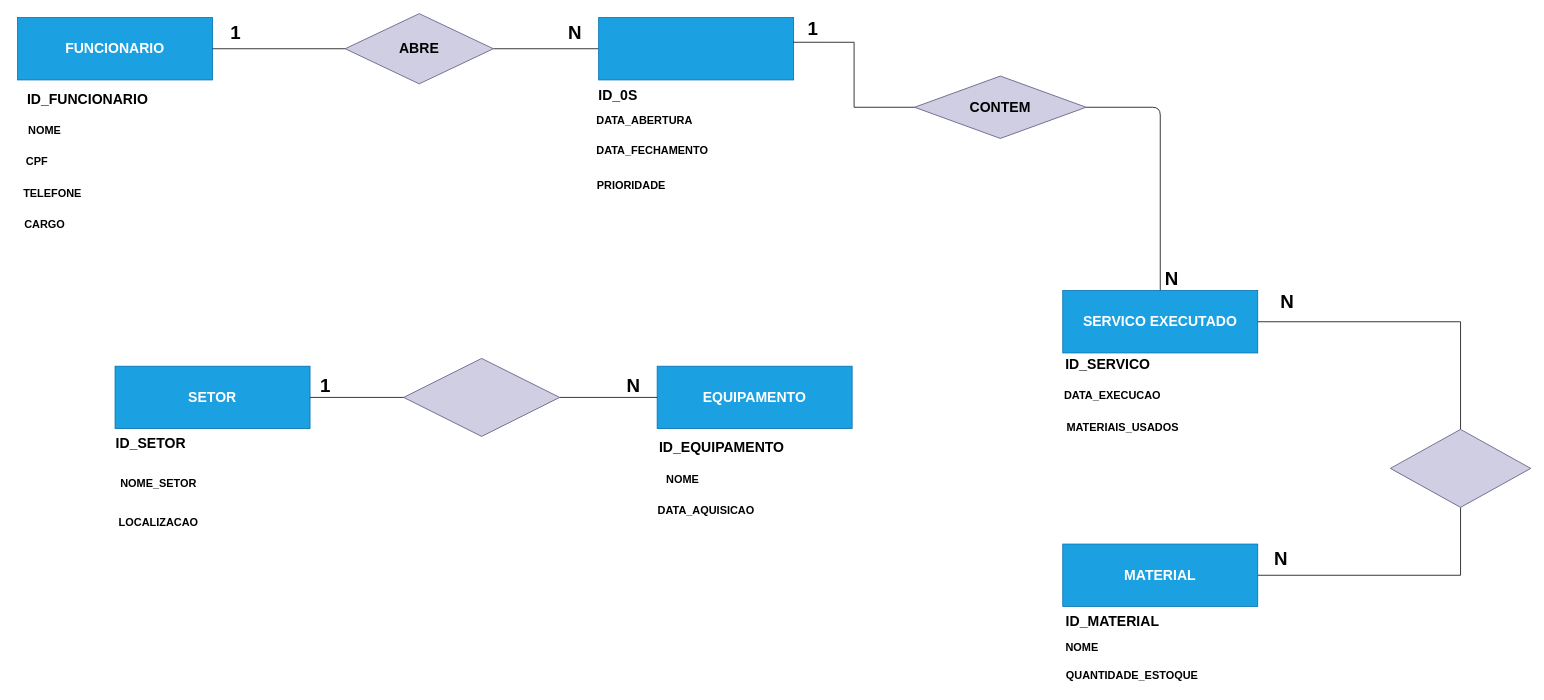
Some shapes in this 1544 by 700 pixel diagram are drawn without their labels. The shapes that lost their labels are listed below. From the top down, each one's centre as x and y in pixels, then its label:
the point at 696,48: ORDEM DE SERVICO
the point at 481,397: POSSUI
the point at 1460,468: UTILIZA
